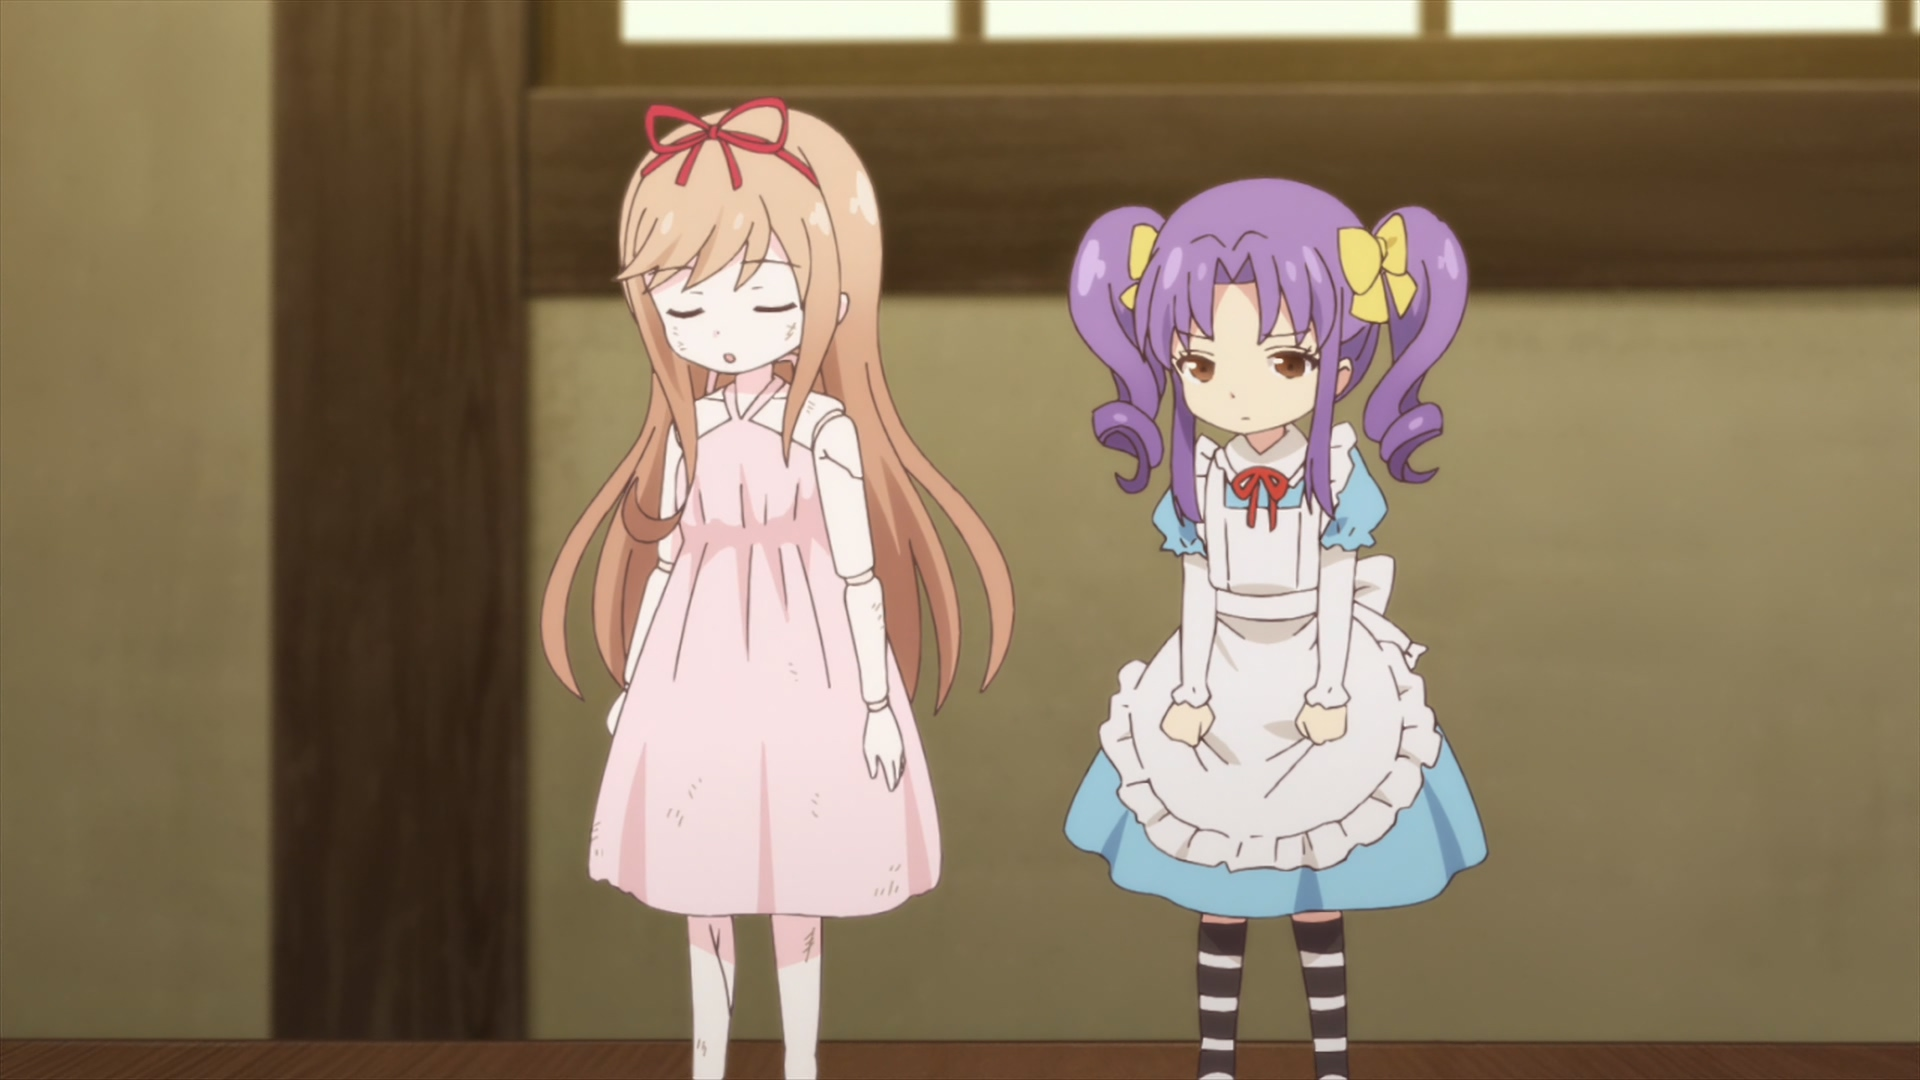其他: (541, 98, 1014, 1080)
阿菊: (1063, 174, 1490, 1080)
